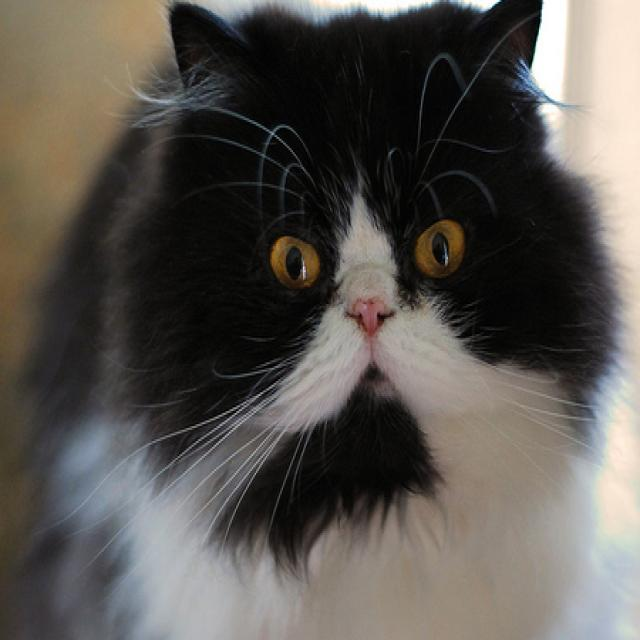Persian: (27, 0, 634, 640)
